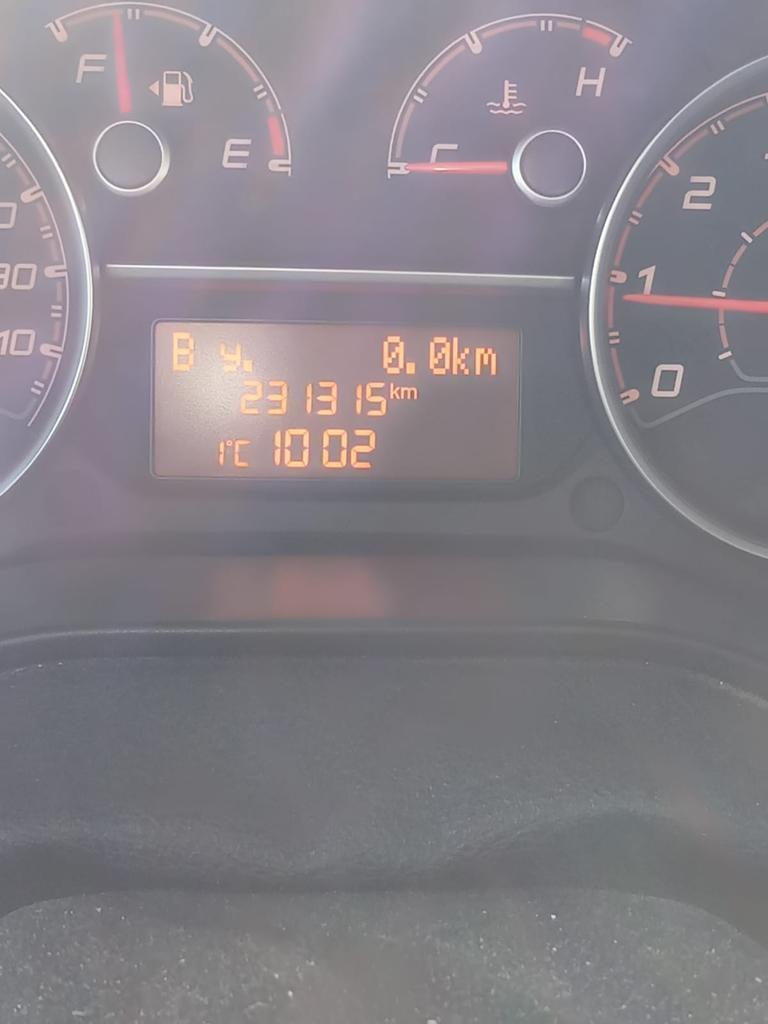,: (241, 358, 253, 372), (404, 361, 416, 375)
0: (283, 428, 309, 468), (321, 428, 347, 468), (382, 335, 404, 375), (428, 335, 449, 376)
1: (354, 382, 363, 415), (274, 428, 281, 466), (305, 382, 313, 414), (217, 439, 225, 466)
2: (348, 429, 376, 469), (239, 380, 262, 415)
3: (264, 380, 288, 415), (315, 381, 338, 415)
5: (364, 381, 387, 416)
X: (171, 331, 196, 372), (451, 335, 471, 374), (217, 342, 242, 372), (473, 346, 496, 376), (234, 438, 250, 466), (399, 386, 418, 399), (389, 381, 400, 399)
odometer: (148, 316, 524, 484)
